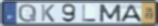9: (61, 3, 77, 23)
A: (119, 4, 143, 23)
K: (40, 4, 56, 23)
L: (82, 4, 98, 23)
M: (98, 3, 123, 23)
Q: (18, 3, 38, 24)
